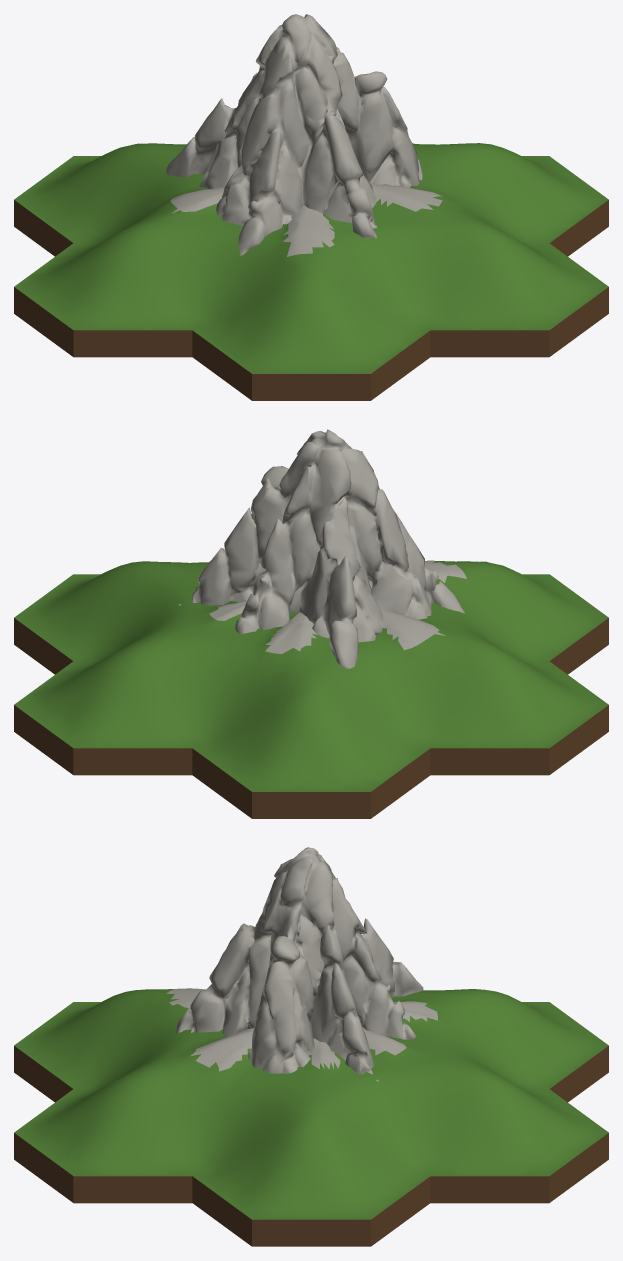
File: massif_granite.glb
The picture shows the model from 3 angles, top to bottom: view 1: azimuth 30°, elevation 25°; view 2: azimuth 150°, elevation 25°; view 3: azimuth 270°, elevation 25°; orthographic projection.
Parts seen in each view (by area): view 1: massif_granite_lod0; view 2: massif_granite_lod0; view 3: massif_granite_lod0.
Boxes of the visible parts, x1=… form: massif_granite_lod0: x1=14, y1=14, x2=608, y2=400; massif_granite_lod0: x1=14, y1=429, x2=608, y2=818; massif_granite_lod0: x1=14, y1=847, x2=608, y2=1246.
Size of what is drawn, in the model's own units: 83.14 by 38.57 by 80.
